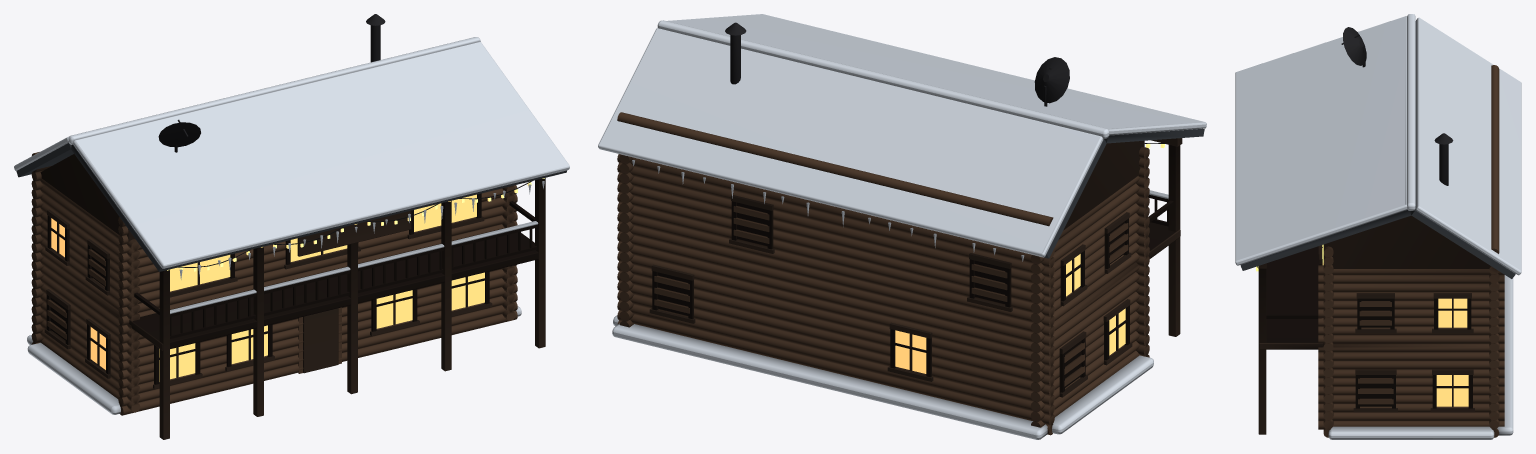
Rendered from lodge_common_room.glb.
The picture shows the model from 3 angles, left to right: view 1: azimuth 30°, elevation 25°; view 2: azimuth 150°, elevation 25°; view 3: azimuth 270°, elevation 25°; orthographic projection. The views are drawn at different scales.
Parts seen in each view (by area): view 1: LodgeCommonRoom; view 2: LodgeCommonRoom; view 3: LodgeCommonRoom.
Part boxes in pixels (x1,y1,x2,y2): LodgeCommonRoom: [14, 14, 569, 439]; LodgeCommonRoom: [598, 14, 1206, 439]; LodgeCommonRoom: [1235, 14, 1521, 439].
Bounding box in the file's own units: 15.3 × 9.96 × 9.69.
